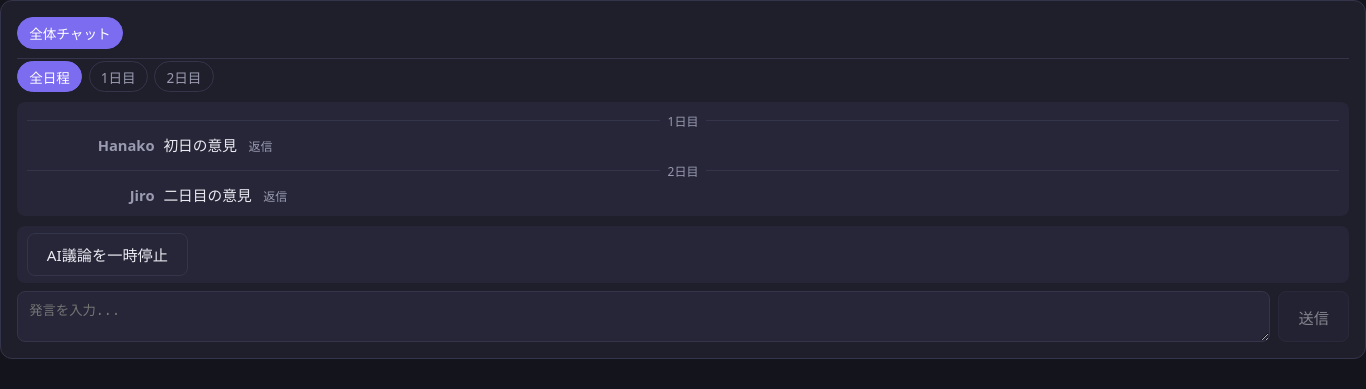
Test case: ChatPanel › switches between day logs and filters by speaker
Click the button "1日目".
click(118, 77)  # box x1=88 y1=61 x2=148 y2=92
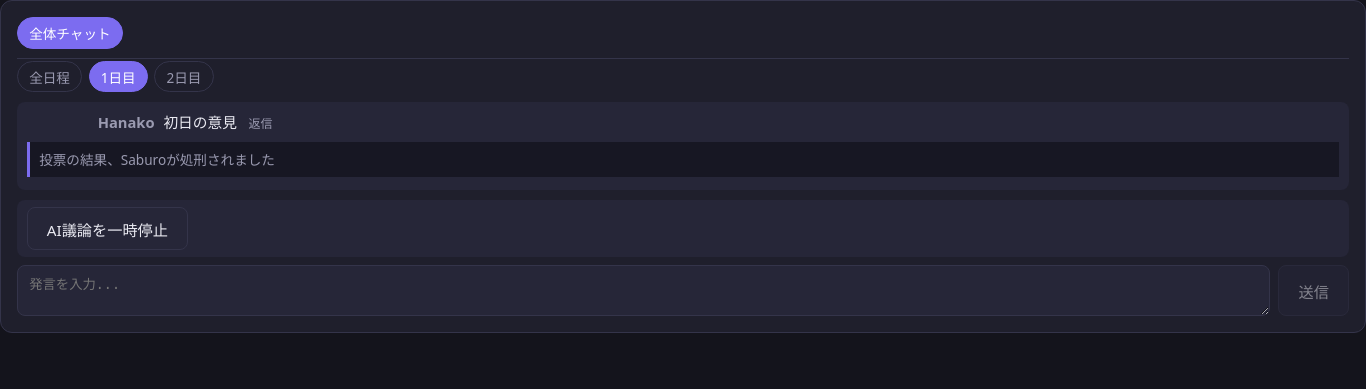
Check: the text "初日の意見" is shown, box x1=163 y1=112 x2=237 y2=132
Check: the text "二日目の意見" is gone
Click the button "Hanako".
click(126, 122)  # box x1=98 y1=112 x2=155 y2=132
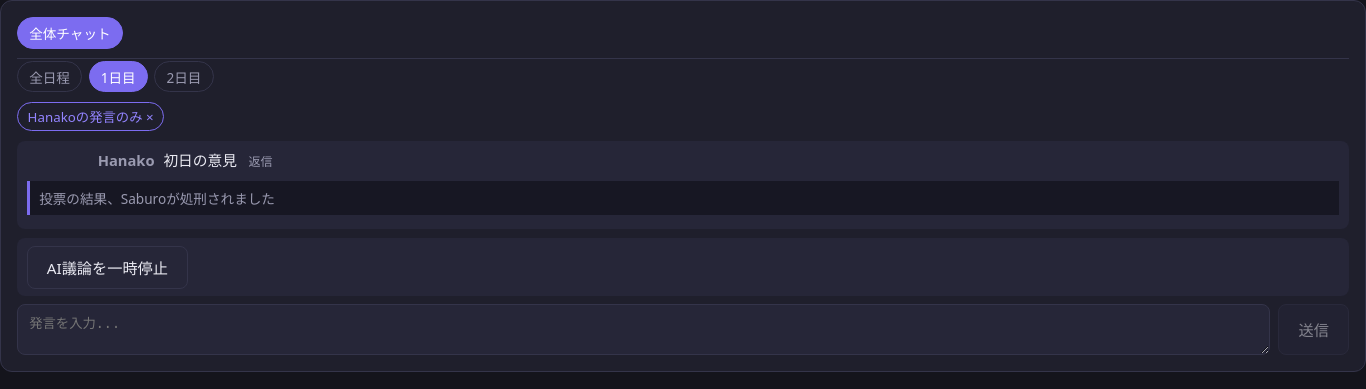
Check: the button "Hanakoの発言のみ ×" is shown, box x1=17 y1=102 x2=164 y2=131
